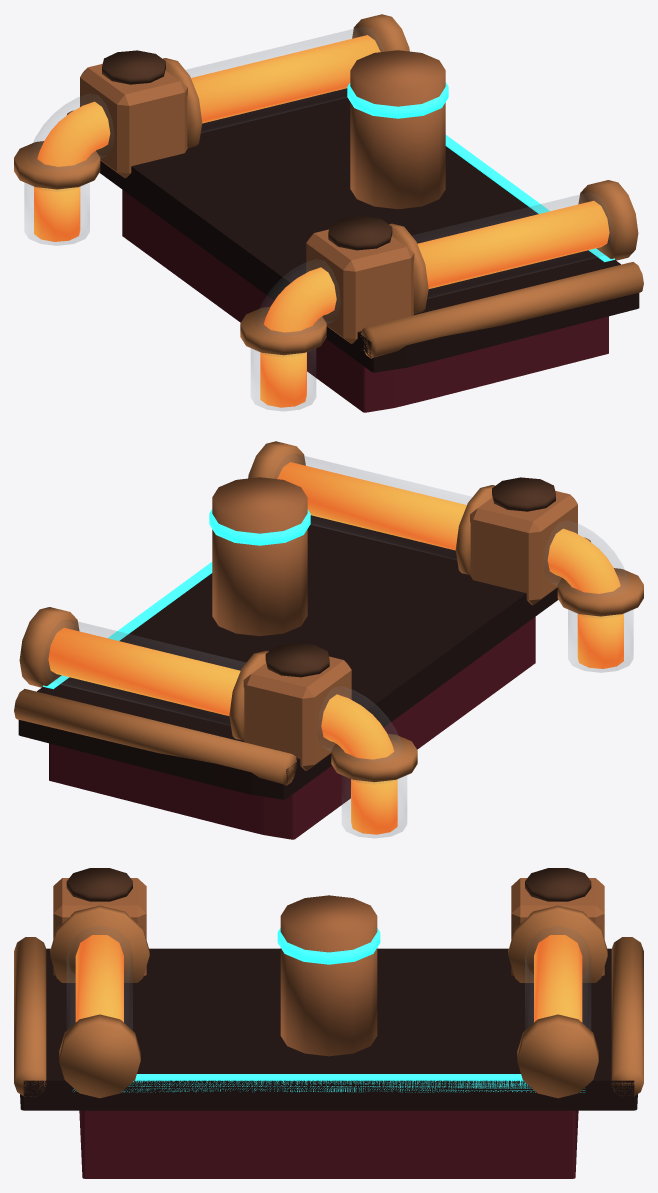
The model's file is Anchor_Stub.glb.
3 views of the same model, one above another, from view 1: azimuth 30°, elevation 25°; view 2: azimuth 150°, elevation 25°; view 3: azimuth 270°, elevation 25° (orthographic).
Parts seen in each view (by area): view 1: CP_Anchor_Stub; view 2: CP_Anchor_Stub; view 3: CP_Anchor_Stub.
Boxes of the visible parts, box(x1,y1,x2,y2) form: CP_Anchor_Stub: box(14, 14, 643, 412); CP_Anchor_Stub: box(14, 441, 643, 839); CP_Anchor_Stub: box(14, 868, 643, 1178).
Bounding box in the file's own units: 2.89 × 1.6 × 4.18.
